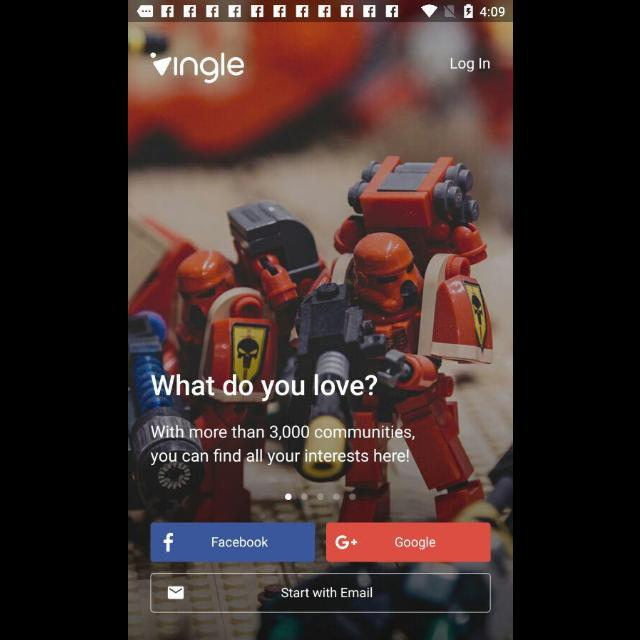backgroundimage: (128, 22, 512, 640)
image: (150, 52, 244, 84)
pageindicator: (283, 492, 357, 502)
text: (150, 425, 414, 467), (150, 373, 378, 402), (449, 58, 488, 72)
textbutton: (150, 573, 490, 613), (150, 522, 314, 562), (326, 523, 490, 563)
uppertaskbar: (128, 1, 512, 23)
